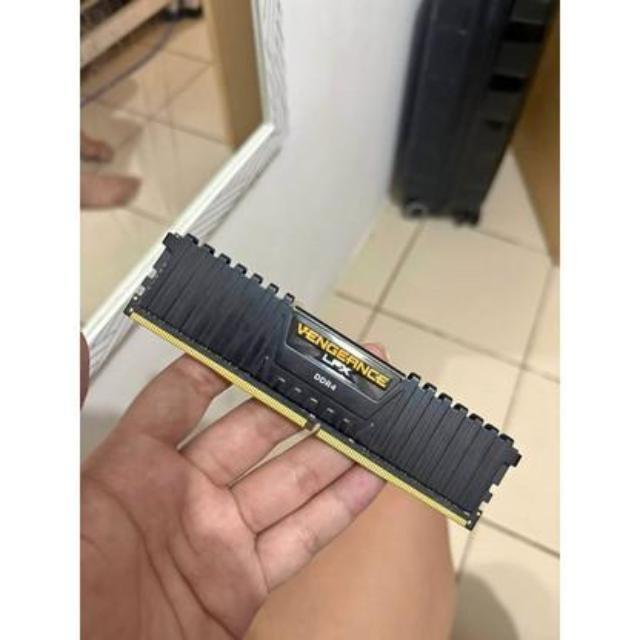RAM: (120, 223, 531, 540)
